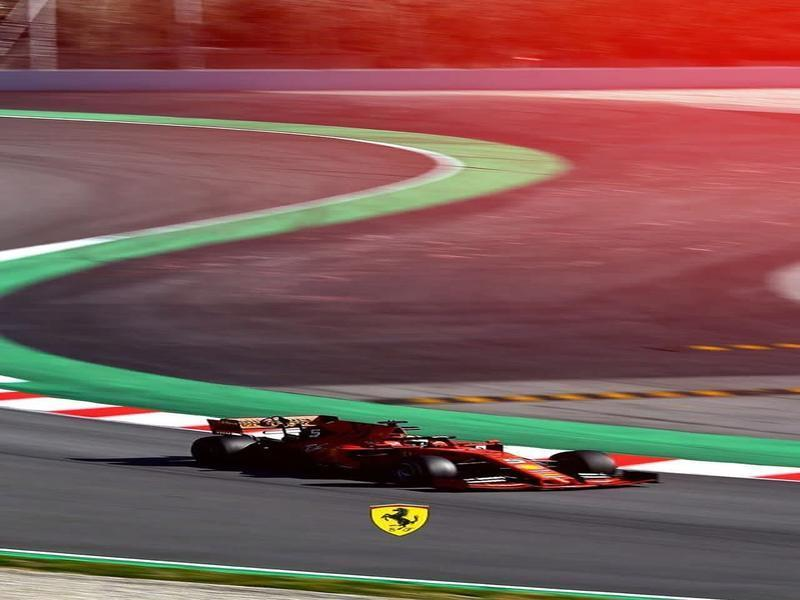f1: (194, 384, 653, 500)
